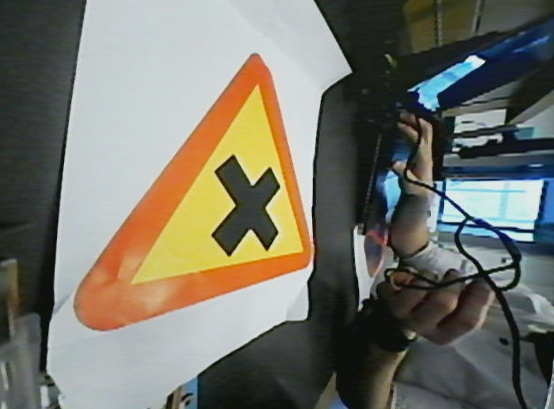junction: (84, 37, 315, 330)
